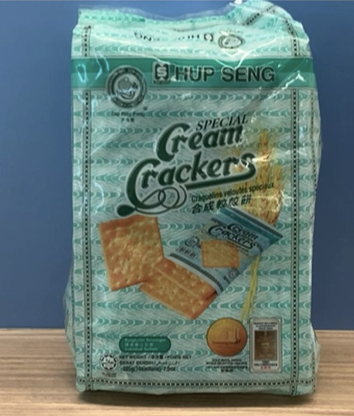crackers_150g: (93, 62, 300, 385)
